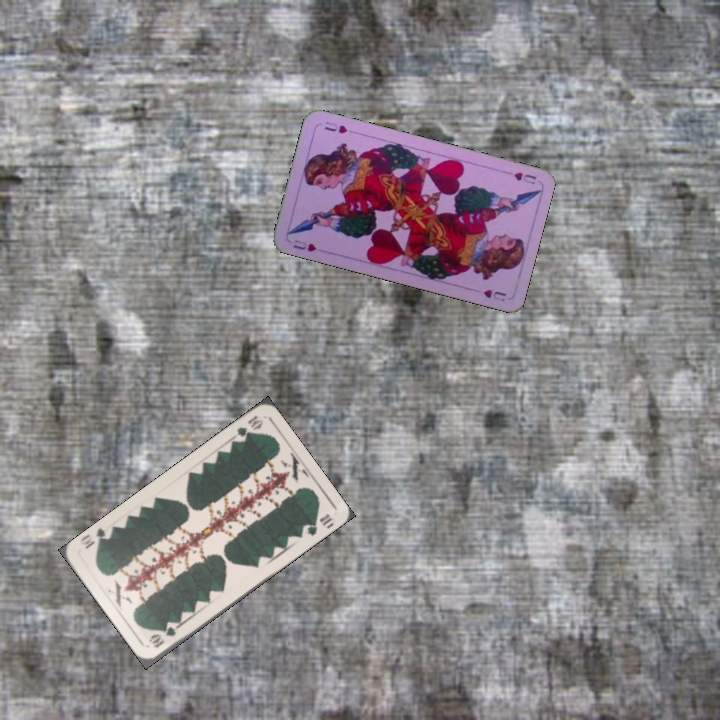G10: (231, 411, 266, 445), (145, 618, 182, 650)
HU: (500, 167, 539, 188), (289, 236, 319, 254)
